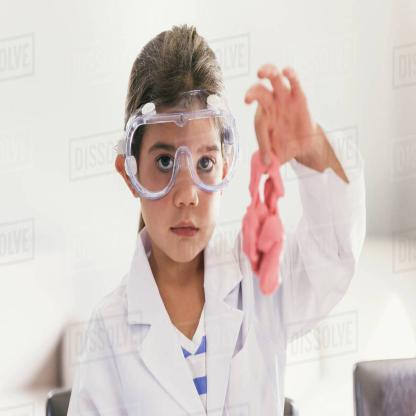oculos: (125, 107, 239, 200)
